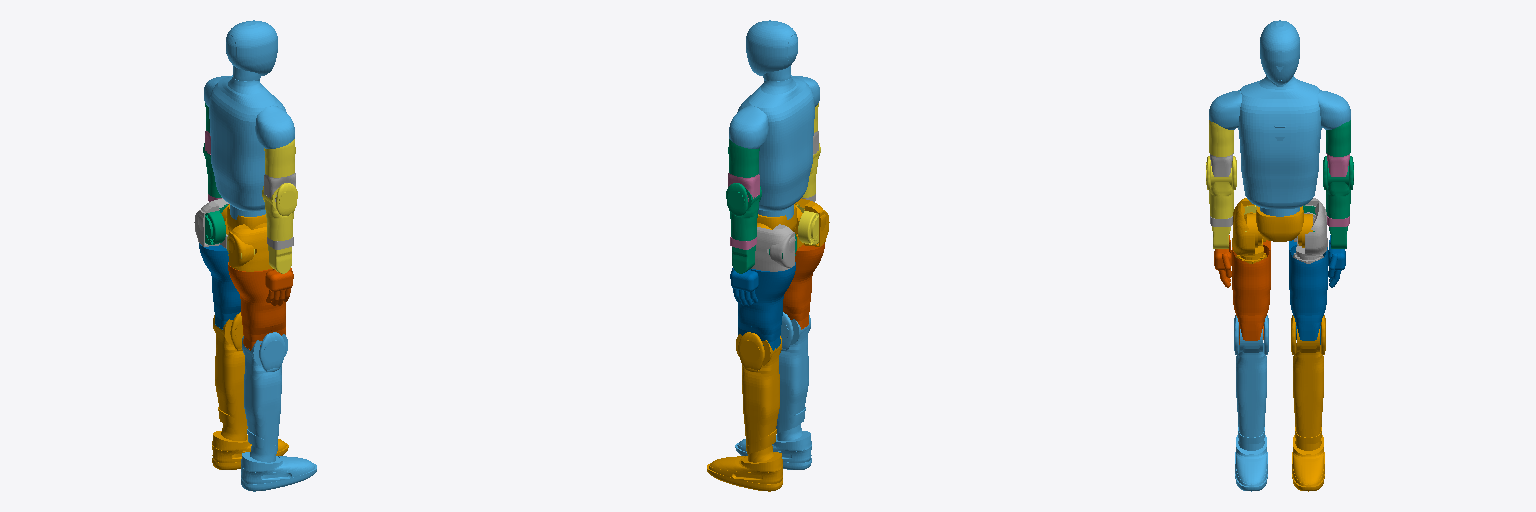
URDF robot description (echo):
<?xml version="1.0"?>
<robot name="echo">
  <!-- generated by tools/make_robot_files.py from spec/robot.json; do not edit -->
  <link name="pelvis">
    <inertial><origin xyz="0.000193056 -6.51664e-05 0.0508057" rpy="0 0 0"/><mass value="6.1448"/>
      <inertia ixx="0.048422" ixy="-2.76483e-07" ixz="-3.24649e-05" iyy="0.0168862" iyz="1.00445e-05" izz="0.0453224"/></inertial>
    <visual><geometry><mesh filename="meshes/pelvis.stl"/></geometry></visual>
    <collision><geometry><mesh filename="meshes/pelvis.stl"/></geometry></collision>
  </link>
  <link name="torso">
    <inertial><origin xyz="-0.0097095 1.29592e-07 0.26629" rpy="0 0 0"/><mass value="20.4020"/>
      <inertia ixx="0.276462" ixy="2.13212e-08" ixz="-0.00656202" iyy="0.247834" iyz="-5.41367e-07" izz="0.120184"/></inertial>
    <visual><geometry><mesh filename="meshes/torso.stl"/></geometry></visual>
    <collision><geometry><mesh filename="meshes/torso.stl"/></geometry></collision>
  </link>
  <link name="L_hip_pitch_link">
    <inertial><origin xyz="-0.088039 0.00423385 0.00115339" rpy="0 0 0"/><mass value="1.8944"/>
      <inertia ixx="0.00368996" ixy="-0.000598274" ixz="-7.16607e-05" iyy="0.00431146" iyz="-5.28705e-05" izz="0.00434189"/></inertial>
    <visual><geometry><mesh filename="meshes/L_hip_pitch_link.stl"/></geometry></visual>
    <collision><geometry><mesh filename="meshes/L_hip_pitch_link.stl"/></geometry></collision>
  </link>
  <link name="R_hip_pitch_link">
    <inertial><origin xyz="-0.088039 -0.00423384 0.00115339" rpy="0 0 0"/><mass value="1.8944"/>
      <inertia ixx="0.00368996" ixy="0.000598274" ixz="-7.16607e-05" iyy="0.00431146" iyz="5.28704e-05" izz="0.00434189"/></inertial>
    <visual><geometry><mesh filename="meshes/R_hip_pitch_link.stl"/></geometry></visual>
    <collision><geometry><mesh filename="meshes/R_hip_pitch_link.stl"/></geometry></collision>
  </link>
  <link name="neck_yaw_link">
    <inertial><origin xyz="1.23683e-11 -1.04999e-36 0.0699903" rpy="0 0 0"/><mass value="0.3583"/>
      <inertia ixx="0.00020458" ixy="-2.58942e-23" ixz="1.03557e-13" iyy="0.000200336" iyz="-1.7934e-39" izz="0.000134806"/></inertial>
    <visual><geometry><mesh filename="meshes/neck_yaw_link.stl"/></geometry></visual>
    <collision><geometry><mesh filename="meshes/neck_yaw_link.stl"/></geometry></collision>
  </link>
  <link name="L_shoulder_pitch_link">
    <inertial><origin xyz="0.0005698 0.0796799 -1.15094e-09" rpy="0 0 0"/><mass value="0.7691"/>
      <inertia ixx="0.00102993" ixy="-4.52233e-06" ixz="-8.58135e-13" iyy="0.000521808" iyz="-4.26807e-11" izz="0.000875106"/></inertial>
    <visual><geometry><mesh filename="meshes/L_shoulder_pitch_link.stl"/></geometry></visual>
    <collision><geometry><mesh filename="meshes/L_shoulder_pitch_link.stl"/></geometry></collision>
  </link>
  <link name="R_shoulder_pitch_link">
    <inertial><origin xyz="0.0005698 -0.0796799 -1.15094e-09" rpy="0 0 0"/><mass value="0.7691"/>
      <inertia ixx="0.00102993" ixy="4.52233e-06" ixz="-8.58134e-13" iyy="0.000521808" iyz="4.26807e-11" izz="0.000875106"/></inertial>
    <visual><geometry><mesh filename="meshes/R_shoulder_pitch_link.stl"/></geometry></visual>
    <collision><geometry><mesh filename="meshes/R_shoulder_pitch_link.stl"/></geometry></collision>
  </link>
  <link name="L_hip_roll_link">
    <inertial><origin xyz="-0.0134061 0.00284863 -0.0918481" rpy="0 0 0"/><mass value="1.5133"/>
      <inertia ixx="0.00379999" ixy="0.000138328" ixz="0.0014794" iyy="0.00526759" iyz="-0.00026664" izz="0.0038282"/></inertial>
    <visual><geometry><mesh filename="meshes/L_hip_roll_link.stl"/></geometry></visual>
    <collision><geometry><mesh filename="meshes/L_hip_roll_link.stl"/></geometry></collision>
  </link>
  <link name="R_hip_roll_link">
    <inertial><origin xyz="-0.0134058 -0.00284859 -0.0918484" rpy="0 0 0"/><mass value="1.5133"/>
      <inertia ixx="0.00379994" ixy="-0.00013831" ixz="0.00147935" iyy="0.00526751" iyz="0.000266629" izz="0.00382817"/></inertial>
    <visual><geometry><mesh filename="meshes/R_hip_roll_link.stl"/></geometry></visual>
    <collision><geometry><mesh filename="meshes/R_hip_roll_link.stl"/></geometry></collision>
  </link>
  <link name="head">
    <inertial><origin xyz="0.0285325 0.00327103 0.110361" rpy="0 0 0"/><mass value="0.9868"/>
      <inertia ixx="0.00452221" ixy="5.41867e-05" ixz="-0.000132645" iyy="0.0051219" iyz="0.000220588" izz="0.00320803"/></inertial>
    <visual><geometry><mesh filename="meshes/head.stl"/></geometry></visual>
    <collision><geometry><mesh filename="meshes/head.stl"/></geometry></collision>
  </link>
  <link name="L_shoulder_roll_link">
    <inertial><origin xyz="-0.00174548 0.0254729 -0.0677619" rpy="0 0 0"/><mass value="0.8396"/>
      <inertia ixx="0.00179673" ixy="-3.58631e-05" ixz="9.7554e-05" iyy="0.00198913" iyz="0.000193078" izz="0.00105933"/></inertial>
    <visual><geometry><mesh filename="meshes/L_shoulder_roll_link.stl"/></geometry></visual>
    <collision><geometry><mesh filename="meshes/L_shoulder_roll_link.stl"/></geometry></collision>
  </link>
  <link name="R_shoulder_roll_link">
    <inertial><origin xyz="-0.00174548 -0.0254729 -0.0677619" rpy="0 0 0"/><mass value="0.8396"/>
      <inertia ixx="0.00179673" ixy="3.58558e-05" ixz="9.7554e-05" iyy="0.00198913" iyz="-0.000193078" izz="0.00105933"/></inertial>
    <visual><geometry><mesh filename="meshes/R_shoulder_roll_link.stl"/></geometry></visual>
    <collision><geometry><mesh filename="meshes/R_shoulder_roll_link.stl"/></geometry></collision>
  </link>
  <link name="L_hip_yaw_link">
    <inertial><origin xyz="-0.00243928 0.00268553 -0.1698" rpy="0 0 0"/><mass value="1.5481"/>
      <inertia ixx="0.0156258" ixy="-1.01663e-05" ixz="0.000904366" iyy="0.0158678" iyz="0.000259939" izz="0.00379251"/></inertial>
    <visual><geometry><mesh filename="meshes/L_hip_yaw_link.stl"/></geometry></visual>
    <collision><geometry><mesh filename="meshes/L_hip_yaw_link.stl"/></geometry></collision>
  </link>
  <link name="R_hip_yaw_link">
    <inertial><origin xyz="-0.00243928 -0.00268555 -0.1698" rpy="0 0 0"/><mass value="1.5481"/>
      <inertia ixx="0.0156258" ixy="1.02152e-05" ixz="0.000904366" iyy="0.0158678" iyz="-0.000259868" izz="0.00379251"/></inertial>
    <visual><geometry><mesh filename="meshes/R_hip_yaw_link.stl"/></geometry></visual>
    <collision><geometry><mesh filename="meshes/R_hip_yaw_link.stl"/></geometry></collision>
  </link>
  <link name="L_shoulder_yaw_link">
    <inertial><origin xyz="0.000136858 -0.00333585 -0.0557852" rpy="0 0 0"/><mass value="0.3927"/>
      <inertia ixx="0.00128441" ixy="-1.82913e-07" ixz="-5.9321e-07" iyy="0.0012496" iyz="-7.75784e-05" izz="0.000574904"/></inertial>
    <visual><geometry><mesh filename="meshes/L_shoulder_yaw_link.stl"/></geometry></visual>
    <collision><geometry><mesh filename="meshes/L_shoulder_yaw_link.stl"/></geometry></collision>
  </link>
  <link name="R_shoulder_yaw_link">
    <inertial><origin xyz="0.000136858 0.00333587 -0.0557852" rpy="0 0 0"/><mass value="0.3927"/>
      <inertia ixx="0.00128441" ixy="1.7495e-07" ixz="-5.93209e-07" iyy="0.0012496" iyz="7.75784e-05" izz="0.000574904"/></inertial>
    <visual><geometry><mesh filename="meshes/R_shoulder_yaw_link.stl"/></geometry></visual>
    <collision><geometry><mesh filename="meshes/R_shoulder_yaw_link.stl"/></geometry></collision>
  </link>
  <link name="L_knee_link">
    <inertial><origin xyz="-0.00406506 0.000983675 -0.111212" rpy="0 0 0"/><mass value="4.9866"/>
      <inertia ixx="0.0823041" ixy="-1.53701e-05" ixz="-0.00238697" iyy="0.0836565" iyz="-0.000396317" izz="0.00745084"/></inertial>
    <visual><geometry><mesh filename="meshes/L_knee_link.stl"/></geometry></visual>
    <collision><geometry><mesh filename="meshes/L_knee_link.stl"/></geometry></collision>
  </link>
  <link name="R_knee_link">
    <inertial><origin xyz="-0.00406506 -0.000983686 -0.111212" rpy="0 0 0"/><mass value="4.9866"/>
      <inertia ixx="0.0823041" ixy="1.53918e-05" ixz="-0.00238697" iyy="0.0836565" iyz="0.000396301" izz="0.00745084"/></inertial>
    <visual><geometry><mesh filename="meshes/R_knee_link.stl"/></geometry></visual>
    <collision><geometry><mesh filename="meshes/R_knee_link.stl"/></geometry></collision>
  </link>
  <link name="L_elbow_link">
    <inertial><origin xyz="-1.03347e-10 0.00111307 -0.0306498" rpy="0 0 0"/><mass value="1.8475"/>
      <inertia ixx="0.00597148" ixy="4.64502e-09" ixz="5.41031e-12" iyy="0.00548755" iyz="-2.83993e-05" izz="0.00241071"/></inertial>
    <visual><geometry><mesh filename="meshes/L_elbow_link.stl"/></geometry></visual>
    <collision><geometry><mesh filename="meshes/L_elbow_link.stl"/></geometry></collision>
  </link>
  <link name="R_elbow_link">
    <inertial><origin xyz="-1.03997e-10 -0.00111307 -0.0306498" rpy="0 0 0"/><mass value="1.8475"/>
      <inertia ixx="0.00597148" ixy="4.64545e-09" ixz="5.65172e-12" iyy="0.00548755" iyz="2.83993e-05" izz="0.00241071"/></inertial>
    <visual><geometry><mesh filename="meshes/R_elbow_link.stl"/></geometry></visual>
    <collision><geometry><mesh filename="meshes/R_elbow_link.stl"/></geometry></collision>
  </link>
  <link name="L_ankle_pitch_link">
    <inertial><origin xyz="-0.00531693 -0.000535052 0.000387912" rpy="0 0 0"/><mass value="0.0283"/>
      <inertia ixx="4.83668e-06" ixy="-3.93181e-07" ixz="2.85056e-07" iyy="5.92364e-06" iyz="1.00513e-07" izz="8.10265e-06"/></inertial>
    <visual><geometry><mesh filename="meshes/L_ankle_pitch_link.stl"/></geometry></visual>
    <collision><geometry><mesh filename="meshes/L_ankle_pitch_link.stl"/></geometry></collision>
  </link>
  <link name="R_ankle_pitch_link">
    <inertial><origin xyz="-0.00531693 0.000535052 0.000387912" rpy="0 0 0"/><mass value="0.0283"/>
      <inertia ixx="4.83668e-06" ixy="3.93181e-07" ixz="2.85056e-07" iyy="5.92364e-06" iyz="-1.00513e-07" izz="8.10265e-06"/></inertial>
    <visual><geometry><mesh filename="meshes/R_ankle_pitch_link.stl"/></geometry></visual>
    <collision><geometry><mesh filename="meshes/R_ankle_pitch_link.stl"/></geometry></collision>
  </link>
  <link name="L_wrist_yaw_link">
    <inertial><origin xyz="5.18208e-14 -4.46481e-10 -0.0536136" rpy="0 0 0"/><mass value="0.4944"/>
      <inertia ixx="0.000678861" ixy="1.80975e-10" ixz="1.33135e-16" iyy="0.000689287" iyz="7.65138e-13" izz="0.000290936"/></inertial>
    <visual><geometry><mesh filename="meshes/L_wrist_yaw_link.stl"/></geometry></visual>
    <collision><geometry><mesh filename="meshes/L_wrist_yaw_link.stl"/></geometry></collision>
  </link>
  <link name="R_wrist_yaw_link">
    <inertial><origin xyz="-1.54004e-13 4.46652e-10 -0.0536136" rpy="0 0 0"/><mass value="0.4944"/>
      <inertia ixx="0.000678861" ixy="1.80975e-10" ixz="1.92132e-16" iyy="0.000689287" iyz="-7.65761e-13" izz="0.000290936"/></inertial>
    <visual><geometry><mesh filename="meshes/R_wrist_yaw_link.stl"/></geometry></visual>
    <collision><geometry><mesh filename="meshes/R_wrist_yaw_link.stl"/></geometry></collision>
  </link>
  <link name="L_foot">
    <inertial><origin xyz="0.0434213 0.000415715 -0.0564629" rpy="0 0 0"/><mass value="1.5135"/>
      <inertia ixx="0.00175014" ixy="2.72905e-05" ixz="0.000624148" iyy="0.00776711" iyz="-1.69588e-05" izz="0.00816582"/></inertial>
    <visual><geometry><mesh filename="meshes/L_foot.stl"/></geometry></visual>
    <collision><origin xyz="0.04 0 -0.07"/><geometry><box size="0.24 0.1 0.03"/></geometry></collision>
  </link>
  <link name="R_foot">
    <inertial><origin xyz="0.0434213 -0.000416128 -0.0564629" rpy="0 0 0"/><mass value="1.5135"/>
      <inertia ixx="0.00175014" ixy="-2.73754e-05" ixz="0.000624148" iyy="0.00776711" iyz="1.69866e-05" izz="0.00816582"/></inertial>
    <visual><geometry><mesh filename="meshes/R_foot.stl"/></geometry></visual>
    <collision><origin xyz="0.04 0 -0.07"/><geometry><box size="0.24 0.1 0.03"/></geometry></collision>
  </link>
  <link name="L_wrist_pitch_link">
    <inertial><origin xyz="0.00417187 0.000768346 -0.051077" rpy="0 0 0"/><mass value="0.4373"/>
      <inertia ixx="0.000345666" ixy="1.40198e-06" ixz="-5.63764e-05" iyy="0.00038404" iyz="3.195e-06" izz="0.000249859"/></inertial>
    <visual><geometry><mesh filename="meshes/L_wrist_pitch_link.stl"/></geometry></visual>
    <collision><geometry><mesh filename="meshes/L_wrist_pitch_link.stl"/></geometry></collision>
  </link>
  <link name="R_wrist_pitch_link">
    <inertial><origin xyz="0.00417185 -0.000768345 -0.051077" rpy="0 0 0"/><mass value="0.4373"/>
      <inertia ixx="0.000345666" ixy="-1.40146e-06" ixz="-5.63766e-05" iyy="0.00038404" iyz="-3.195e-06" izz="0.000249859"/></inertial>
    <visual><geometry><mesh filename="meshes/R_wrist_pitch_link.stl"/></geometry></visual>
    <collision><geometry><mesh filename="meshes/R_wrist_pitch_link.stl"/></geometry></collision>
  </link>
  <link name="L_hand">
    <inertial><origin xyz="0.00110934 -0.00739179 -0.0710582" rpy="0 0 0"/><mass value="1.0164"/>
      <inertia ixx="0.00112685" ixy="1.3301e-05" ixz="1.73656e-05" iyy="0.00147448" iyz="8.23086e-05" izz="0.00088755"/></inertial>
    <visual><geometry><mesh filename="meshes/L_hand.stl"/></geometry></visual>
    <collision><geometry><mesh filename="meshes/L_hand.stl"/></geometry></collision>
  </link>
  <link name="R_hand">
    <inertial><origin xyz="0.00110934 0.00739179 -0.0710582" rpy="0 0 0"/><mass value="1.0164"/>
      <inertia ixx="0.00112685" ixy="-1.3301e-05" ixz="1.73656e-05" iyy="0.00147448" iyz="-8.23086e-05" izz="0.00088755"/></inertial>
    <visual><geometry><mesh filename="meshes/R_hand.stl"/></geometry></visual>
    <collision><geometry><mesh filename="meshes/R_hand.stl"/></geometry></collision>
  </link>
  <joint name="waist_yaw" type="revolute">
    <parent link="pelvis"/><child link="torso"/>
    <origin xyz="0 0 0.09" rpy="0 0 0"/>
    <axis xyz="0 0 1"/>
    <limit lower="-2.6" upper="2.6" effort="120.0" velocity="20.90"/>
    <dynamics damping="0.2" friction="1.5"/>
  </joint>
  <joint name="neck_yaw" type="revolute">
    <parent link="torso"/><child link="neck_yaw_link"/>
    <origin xyz="-0.012 0 0.4305" rpy="0 0 0"/>
    <axis xyz="0 0 1"/>
    <limit lower="-1.4" upper="1.4" effort="14.0" velocity="33.00"/>
    <dynamics damping="0.02" friction="0.3"/>
  </joint>
  <joint name="neck_pitch" type="revolute">
    <parent link="neck_yaw_link"/><child link="head"/>
    <origin xyz="0 0 0.0755" rpy="0 0 0"/>
    <axis xyz="0 1 0"/>
    <limit lower="-0.4" upper="0.45" effort="14.0" velocity="33.00"/>
    <dynamics damping="0.02" friction="0.3"/>
  </joint>
  <joint name="L_shoulder_pitch" type="revolute">
    <parent link="torso"/><child link="L_shoulder_pitch_link"/>
    <origin xyz="0 0.085 0.4" rpy="0 0 0"/>
    <axis xyz="0 1 0"/>
    <limit lower="-3.0" upper="1.0" effort="120.0" velocity="20.90"/>
    <dynamics damping="0.2" friction="1.5"/>
  </joint>
  <joint name="R_shoulder_pitch" type="revolute">
    <parent link="torso"/><child link="R_shoulder_pitch_link"/>
    <origin xyz="0 -0.085 0.4" rpy="0 0 0"/>
    <axis xyz="0 1 0"/>
    <limit lower="-3.0" upper="1.0" effort="120.0" velocity="20.90"/>
    <dynamics damping="0.2" friction="1.5"/>
  </joint>
  <joint name="L_shoulder_roll" type="revolute">
    <parent link="L_shoulder_pitch_link"/><child link="L_shoulder_roll_link"/>
    <origin xyz="0 0.09 0" rpy="0 0 0"/>
    <axis xyz="1 0 0"/>
    <limit lower="-0.05" upper="2.6" effort="36.0" velocity="50.30"/>
    <dynamics damping="0.08" friction="0.7"/>
  </joint>
  <joint name="R_shoulder_roll" type="revolute">
    <parent link="R_shoulder_pitch_link"/><child link="R_shoulder_roll_link"/>
    <origin xyz="0 -0.09 0" rpy="0 0 0"/>
    <axis xyz="1 0 0"/>
    <limit lower="-2.6" upper="0.05" effort="36.0" velocity="50.30"/>
    <dynamics damping="0.08" friction="0.7"/>
  </joint>
  <joint name="L_shoulder_yaw" type="revolute">
    <parent link="L_shoulder_roll_link"/><child link="L_shoulder_yaw_link"/>
    <origin xyz="0 0.03 -0.12" rpy="0 0 0"/>
    <axis xyz="0 0 1"/>
    <limit lower="-2.6" upper="2.6" effort="17.0" velocity="42.90"/>
    <dynamics damping="0.03" friction="0.4"/>
  </joint>
  <joint name="R_shoulder_yaw" type="revolute">
    <parent link="R_shoulder_roll_link"/><child link="R_shoulder_yaw_link"/>
    <origin xyz="0 -0.03 -0.12" rpy="0 0 0"/>
    <axis xyz="0 0 1"/>
    <limit lower="-2.6" upper="2.6" effort="17.0" velocity="42.90"/>
    <dynamics damping="0.03" friction="0.4"/>
  </joint>
  <joint name="L_elbow" type="revolute">
    <parent link="L_shoulder_yaw_link"/><child link="L_elbow_link"/>
    <origin xyz="0 0 -0.115" rpy="0 0 0"/>
    <axis xyz="0 1 0"/>
    <limit lower="-1.9" upper="0.0" effort="36.0" velocity="50.30"/>
    <dynamics damping="0.08" friction="0.7"/>
  </joint>
  <joint name="R_elbow" type="revolute">
    <parent link="R_shoulder_yaw_link"/><child link="R_elbow_link"/>
    <origin xyz="0 0 -0.115" rpy="0 0 0"/>
    <axis xyz="0 1 0"/>
    <limit lower="-1.9" upper="0.0" effort="36.0" velocity="50.30"/>
    <dynamics damping="0.08" friction="0.7"/>
  </joint>
  <joint name="L_wrist_yaw" type="revolute">
    <parent link="L_elbow_link"/><child link="L_wrist_yaw_link"/>
    <origin xyz="0 0 -0.125" rpy="0 0 0"/>
    <axis xyz="0 0 1"/>
    <limit lower="-2.6" upper="2.6" effort="17.0" velocity="42.90"/>
    <dynamics damping="0.03" friction="0.4"/>
  </joint>
  <joint name="R_wrist_yaw" type="revolute">
    <parent link="R_elbow_link"/><child link="R_wrist_yaw_link"/>
    <origin xyz="0 0 -0.125" rpy="0 0 0"/>
    <axis xyz="0 0 1"/>
    <limit lower="-2.6" upper="2.6" effort="17.0" velocity="42.90"/>
    <dynamics damping="0.03" friction="0.4"/>
  </joint>
  <joint name="L_wrist_pitch" type="revolute">
    <parent link="L_wrist_yaw_link"/><child link="L_wrist_pitch_link"/>
    <origin xyz="0 0 -0.075" rpy="0 0 0"/>
    <axis xyz="1 0 0"/>
    <limit lower="-0.9" upper="0.9" effort="14.0" velocity="33.00"/>
    <dynamics damping="0.02" friction="0.3"/>
  </joint>
  <joint name="R_wrist_pitch" type="revolute">
    <parent link="R_wrist_yaw_link"/><child link="R_wrist_pitch_link"/>
    <origin xyz="0 0 -0.075" rpy="0 0 0"/>
    <axis xyz="1 0 0"/>
    <limit lower="-0.9" upper="0.9" effort="14.0" velocity="33.00"/>
    <dynamics damping="0.02" friction="0.3"/>
  </joint>
  <joint name="L_wrist_roll" type="revolute">
    <parent link="L_wrist_pitch_link"/><child link="L_hand"/>
    <origin xyz="0 0 -0.06" rpy="0 0 0"/>
    <axis xyz="0 1 0"/>
    <limit lower="-0.6" upper="0.6" effort="14.0" velocity="33.00"/>
    <dynamics damping="0.02" friction="0.3"/>
  </joint>
  <joint name="R_wrist_roll" type="revolute">
    <parent link="R_wrist_pitch_link"/><child link="R_hand"/>
    <origin xyz="0 0 -0.06" rpy="0 0 0"/>
    <axis xyz="0 1 0"/>
    <limit lower="-0.6" upper="0.6" effort="14.0" velocity="33.00"/>
    <dynamics damping="0.02" friction="0.3"/>
  </joint>
  <joint name="L_hip_pitch" type="revolute">
    <parent link="pelvis"/><child link="L_hip_pitch_link"/>
    <origin xyz="0 0.1 0.03" rpy="0 0 0"/>
    <axis xyz="0 1 0"/>
    <limit lower="-1.65" upper="0.24" effort="120.0" velocity="20.90"/>
    <dynamics damping="0.2" friction="1.5"/>
  </joint>
  <joint name="R_hip_pitch" type="revolute">
    <parent link="pelvis"/><child link="R_hip_pitch_link"/>
    <origin xyz="0 -0.1 0.03" rpy="0 0 0"/>
    <axis xyz="0 1 0"/>
    <limit lower="-1.65" upper="0.24" effort="120.0" velocity="20.90"/>
    <dynamics damping="0.2" friction="1.5"/>
  </joint>
  <joint name="L_hip_roll" type="revolute">
    <parent link="L_hip_pitch_link"/><child link="L_hip_roll_link"/>
    <origin xyz="0 0 0" rpy="0 0 0"/>
    <axis xyz="1 0 0"/>
    <limit lower="-0.35" upper="0.6" effort="120.0" velocity="20.90"/>
    <dynamics damping="0.2" friction="1.5"/>
  </joint>
  <joint name="R_hip_roll" type="revolute">
    <parent link="R_hip_pitch_link"/><child link="R_hip_roll_link"/>
    <origin xyz="0 0 0" rpy="0 0 0"/>
    <axis xyz="1 0 0"/>
    <limit lower="-0.6" upper="0.35" effort="120.0" velocity="20.90"/>
    <dynamics damping="0.2" friction="1.5"/>
  </joint>
  <joint name="L_hip_yaw" type="revolute">
    <parent link="L_hip_roll_link"/><child link="L_hip_yaw_link"/>
    <origin xyz="0 0 -0.11" rpy="0 0 0"/>
    <axis xyz="0 0 1"/>
    <limit lower="-1.2" upper="1.2" effort="60.0" velocity="20.40"/>
    <dynamics damping="0.12" friction="1"/>
  </joint>
  <joint name="R_hip_yaw" type="revolute">
    <parent link="R_hip_roll_link"/><child link="R_hip_yaw_link"/>
    <origin xyz="0 0 -0.11" rpy="0 0 0"/>
    <axis xyz="0 0 1"/>
    <limit lower="-1.2" upper="1.2" effort="60.0" velocity="20.40"/>
    <dynamics damping="0.12" friction="1"/>
  </joint>
  <joint name="L_knee" type="revolute">
    <parent link="L_hip_yaw_link"/><child link="L_knee_link"/>
    <origin xyz="0 0 -0.285" rpy="0 0 0"/>
    <axis xyz="0 1 0"/>
    <limit lower="0.0" upper="2.15" effort="120.0" velocity="20.90"/>
    <dynamics damping="0.2" friction="1.5"/>
  </joint>
  <joint name="R_knee" type="revolute">
    <parent link="R_hip_yaw_link"/><child link="R_knee_link"/>
    <origin xyz="0 0 -0.285" rpy="0 0 0"/>
    <axis xyz="0 1 0"/>
    <limit lower="0.0" upper="2.15" effort="120.0" velocity="20.90"/>
    <dynamics damping="0.2" friction="1.5"/>
  </joint>
  <joint name="L_ankle_pitch" type="revolute">
    <parent link="L_knee_link"/><child link="L_ankle_pitch_link"/>
    <origin xyz="0 0 -0.45" rpy="0 0 0"/>
    <axis xyz="0 1 0"/>
    <limit lower="-0.8" upper="0.55" effort="90.0" velocity="13.60"/>
    <dynamics damping="0.27" friction="1.5"/>
  </joint>
  <joint name="R_ankle_pitch" type="revolute">
    <parent link="R_knee_link"/><child link="R_ankle_pitch_link"/>
    <origin xyz="0 0 -0.45" rpy="0 0 0"/>
    <axis xyz="0 1 0"/>
    <limit lower="-0.8" upper="0.55" effort="90.0" velocity="13.60"/>
    <dynamics damping="0.27" friction="1.5"/>
  </joint>
  <joint name="L_ankle_roll" type="revolute">
    <parent link="L_ankle_pitch_link"/><child link="L_foot"/>
    <origin xyz="0 0 0" rpy="0 0 0"/>
    <axis xyz="1 0 0"/>
    <limit lower="-0.3" upper="0.3" effort="47.5" velocity="38.11"/>
    <dynamics damping="0.1394" friction="0.924"/>
  </joint>
  <joint name="R_ankle_roll" type="revolute">
    <parent link="R_ankle_pitch_link"/><child link="R_foot"/>
    <origin xyz="0 0 0" rpy="0 0 0"/>
    <axis xyz="1 0 0"/>
    <limit lower="-0.3" upper="0.3" effort="47.5" velocity="38.11"/>
    <dynamics damping="0.1394" friction="0.924"/>
  </joint>
</robot>

--- Render facts (derived) ---
3 views of the same robot in one strip: view 1: azimuth 30°, elevation 25°; view 2: azimuth 150°, elevation 25°; view 3: azimuth 270°, elevation 25° (orthographic).
Model echo with 30 links and 29 joints (29 revolute), rooted at pelvis, posed every joint at zero.
Visible links, largest first — view 1: torso, R_knee_link, L_knee_link, R_hip_yaw_link, head, R_foot, L_hip_yaw_link, R_hip_roll_link, R_elbow_link, L_foot, R_shoulder_roll_link, R_hand (+3 smaller); view 2: torso, L_knee_link, R_knee_link, L_hip_yaw_link, head, L_foot, R_hip_yaw_link, L_hip_roll_link, L_elbow_link, R_foot, L_shoulder_roll_link, L_hand (+3 smaller); view 3: torso, L_knee_link, R_knee_link, L_hip_yaw_link, R_hip_yaw_link, head, pelvis, L_foot, R_foot, L_elbow_link, R_elbow_link, L_hip_roll_link (+5 smaller).
Boxes of the visible links, x1,y1,x2,y2 form: torso: (204, 75, 294, 219); R_knee_link: (242, 332, 287, 462); L_knee_link: (213, 312, 247, 440); R_hip_yaw_link: (228, 262, 285, 350); head: (226, 20, 277, 80); R_foot: (241, 452, 316, 491); L_hip_yaw_link: (199, 243, 240, 329); R_hip_roll_link: (228, 224, 272, 271); R_elbow_link: (262, 183, 297, 240); L_foot: (212, 431, 288, 469); R_shoulder_roll_link: (264, 139, 295, 177); R_hand: (265, 268, 293, 305); torso: (729, 75, 819, 219); L_knee_link: (736, 332, 781, 462); R_knee_link: (776, 312, 810, 440); L_hip_yaw_link: (738, 262, 795, 350); head: (746, 20, 797, 80); L_foot: (707, 452, 782, 491); R_hip_yaw_link: (783, 243, 824, 329); L_hip_roll_link: (751, 224, 795, 271); L_elbow_link: (726, 183, 761, 240); R_foot: (735, 431, 811, 469); L_shoulder_roll_link: (728, 139, 759, 177); L_hand: (730, 268, 758, 305); torso: (1209, 75, 1350, 216); L_knee_link: (1291, 315, 1325, 450); R_knee_link: (1234, 315, 1268, 450); L_hip_yaw_link: (1289, 240, 1327, 344); R_hip_yaw_link: (1232, 240, 1270, 344); head: (1260, 20, 1299, 86); pelvis: (1247, 206, 1312, 247); L_foot: (1292, 435, 1324, 491); R_foot: (1235, 435, 1267, 491); L_elbow_link: (1323, 156, 1353, 218); R_elbow_link: (1206, 156, 1236, 218); L_hip_roll_link: (1293, 198, 1327, 263).
Bounding box of the posed robot: 0.3415 × 0.5196 × 1.73 m (x, y, z).
30 mesh visuals loaded from 30 distinct referenced files (30 binary STL).
